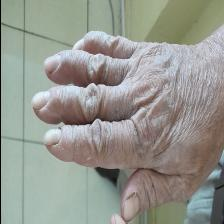DA: (60, 42, 142, 160)
